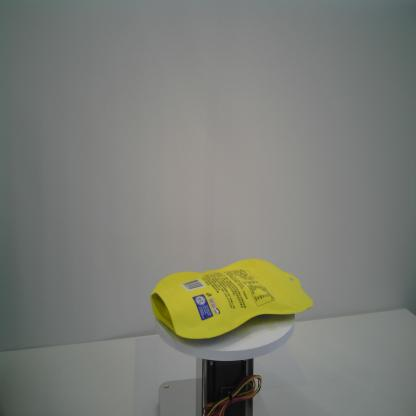Dried Fruit: (148, 254, 315, 344)
